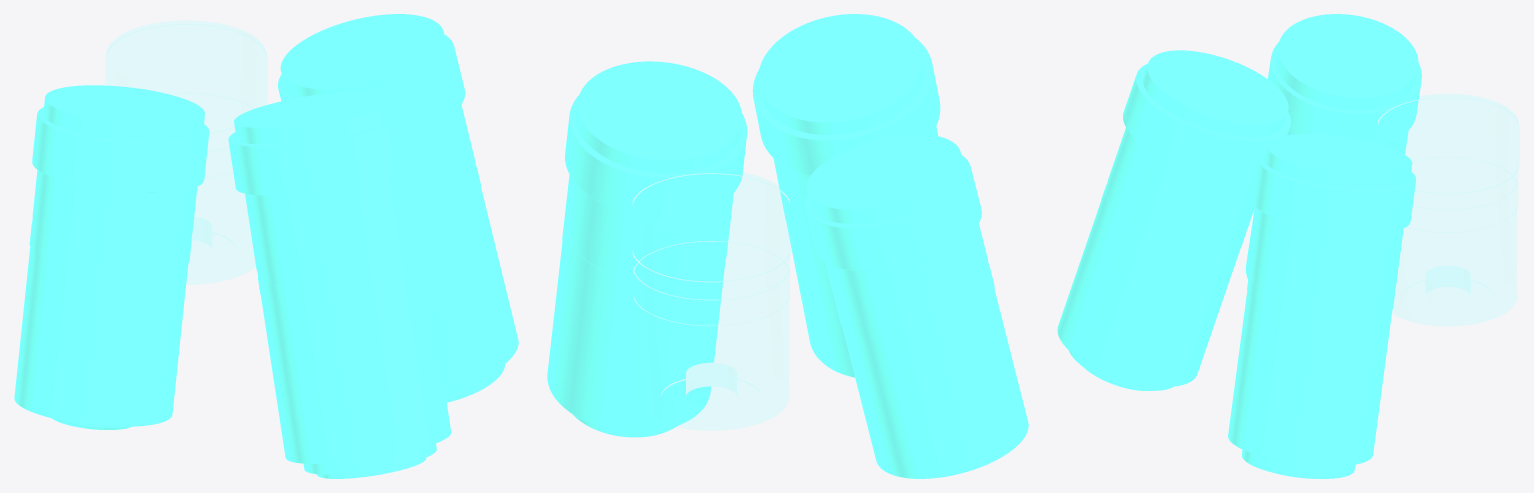
Rendered from hobjective.gltf.
3 renders of one model, left to right at view 1: azimuth 30°, elevation 25°; view 2: azimuth 150°, elevation 25°; view 3: azimuth 270°, elevation 25°, orthographic. The views are drawn at different scales.
Parts seen in each view (by area): view 1: 40x, 10x, 100x, 4x; view 2: 100x, 10x, 4x, 40x; view 3: 100x, 40x, 4x, 10x.
Part boxes in pixels (x1,y1,x2,y2): 40x: [228, 90, 451, 478]; 10x: [14, 85, 209, 429]; 100x: [278, 14, 518, 402]; 4x: [106, 21, 266, 284]; 100x: [547, 61, 747, 437]; 10x: [804, 134, 1028, 478]; 4x: [632, 170, 790, 429]; 40x: [752, 14, 940, 377]; 100x: [1228, 134, 1416, 478]; 40x: [1057, 50, 1290, 390]; 4x: [1377, 94, 1518, 325]; 10x: [1245, 14, 1421, 279].
Bounding box in the file's own units: 0.0651 × 0.0498 × 0.0624.
